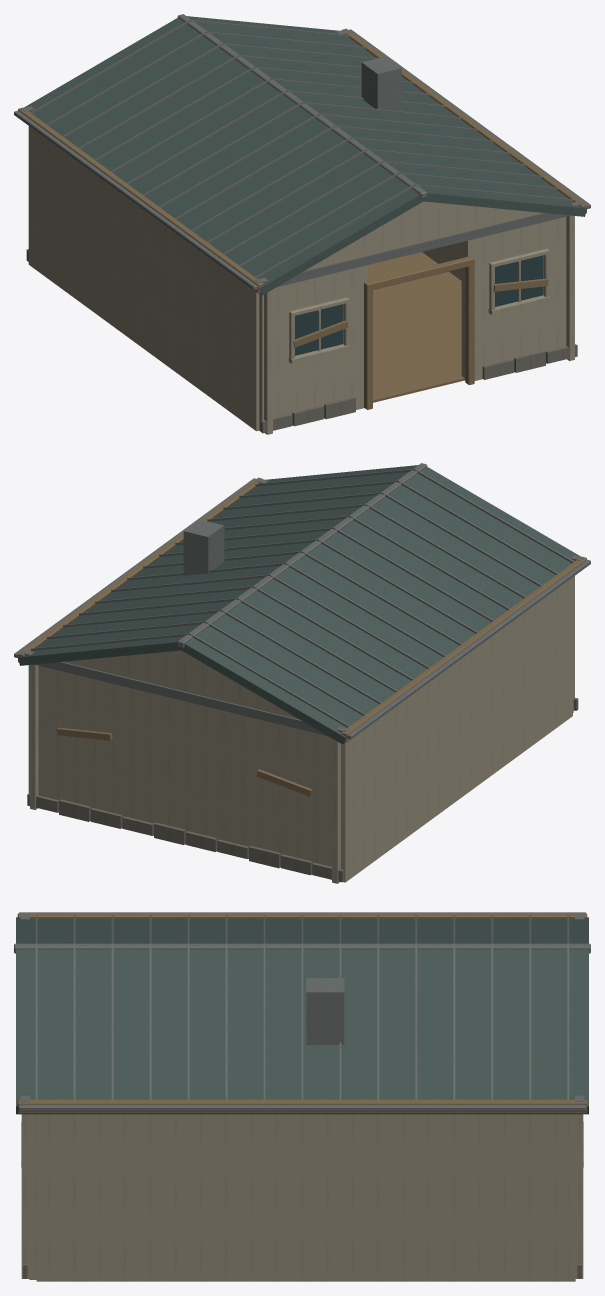
Rendered from building_home.glb.
3 renders of one model, top to bottom at view 1: azimuth 30°, elevation 25°; view 2: azimuth 150°, elevation 25°; view 3: azimuth 270°, elevation 25°, orthographic. The views are drawn at different scales.
Parts seen in each view (by area): view 1: DD_Hide_Roof_-1, DD_Keep_West, DD_Hide_Roof_1, DD_Keep_Floor, DD_Hide_Front_-1, DD_Hide_Front_1, DD_Hide_Gable_True, DD_Cut_Front_1, DD_Cut_Front_-1, DD_Hide_FrontFascia, DD_Hide_West_Gutter, DD_Hide_Chimney (+28 smaller); view 2: DD_Hide_Roof_-1, DD_Keep_Back, DD_Keep_West, DD_Hide_Roof_1, DD_Hide_Gable_False, DD_Hide_BackFascia, DD_Hide_Chimney, DD_Hide_West_Gutter, DD_Hide_Ridge, DD_Hide_West_Eave, DD_Hide_East_Eave, DD_Hide_BackCorner.001 (+17 smaller); view 3: DD_Hide_Roof_1, DD_Hide_East, DD_Cut_East, DD_Hide_Roof_-1, DD_Hide_East_Eave, DD_Hide_East_Gutter, DD_Hide_Ridge, DD_Hide_West_Eave, DD_Hide_Chimney, DD_Keep_Back, DD_Hide_BackCorner.001, DD_Hide_FrontCorner.001 (+2 smaller).
Part boxes in pixels (left/top/right/bottom): DD_Hide_Roof_-1: left=24, top=18, right=424, bottom=295; DD_Keep_West: left=32, top=128, right=259, bottom=431; DD_Hide_Roof_1: left=186, top=16, right=587, bottom=216; DD_Keep_Floor: left=368, top=252, right=464, bottom=402; DD_Hide_Front_-1: left=259, top=265, right=367, bottom=431; DD_Hide_Front_1: left=461, top=217, right=566, bottom=380; DD_Hide_Gable_True: left=305, top=201, right=541, bottom=270; DD_Cut_Front_1: left=461, top=313, right=566, bottom=380; DD_Cut_Front_-1: left=259, top=363, right=363, bottom=430; DD_Hide_FrontFascia: left=255, top=201, right=583, bottom=286; DD_Hide_West_Gutter: left=14, top=110, right=257, bottom=290; DD_Hide_Chimney: left=361, top=56, right=401, bottom=111; DD_Hide_Roof_-1: left=180, top=467, right=580, bottom=744; DD_Keep_Back: left=28, top=665, right=351, bottom=882; DD_Keep_West: left=348, top=577, right=572, bottom=879; DD_Hide_Roof_1: left=17, top=465, right=418, bottom=665; DD_Hide_Gable_False: left=63, top=650, right=299, bottom=719; DD_Hide_BackFascia: left=21, top=650, right=349, bottom=735; DD_Hide_Chimney: left=183, top=519, right=224, bottom=575; DD_Hide_West_Gutter: left=347, top=559, right=590, bottom=739; DD_Hide_Ridge: left=177, top=463, right=427, bottom=647; DD_Hide_West_Eave: left=341, top=556, right=586, bottom=742; DD_Hide_East_Eave: left=18, top=477, right=262, bottom=662; DD_Hide_BackCorner.001: left=30, top=664, right=38, bottom=809; DD_Hide_Roof_1: left=16, top=949, right=588, bottom=1114; DD_Hide_East: left=36, top=1114, right=568, bottom=1281; DD_Cut_East: left=36, top=1228, right=568, bottom=1281; DD_Hide_Roof_-1: left=16, top=917, right=588, bottom=943; DD_Hide_East_Eave: left=17, top=1099, right=587, bottom=1113; DD_Hide_East_Gutter: left=18, top=1104, right=586, bottom=1111; DD_Hide_Ridge: left=14, top=943, right=590, bottom=953; DD_Hide_West_Eave: left=17, top=913, right=587, bottom=918; DD_Hide_Chimney: left=306, top=978, right=344, bottom=1044; DD_Keep_Back: left=560, top=1114, right=575, bottom=1281; DD_Hide_BackCorner.001: left=575, top=1114, right=583, bottom=1278; DD_Hide_FrontCorner.001: left=21, top=1114, right=29, bottom=1278.
Size of the model in its own units: 6.08 by 3.72 by 7.6.
Materials: 7 (6 with a texture image).
